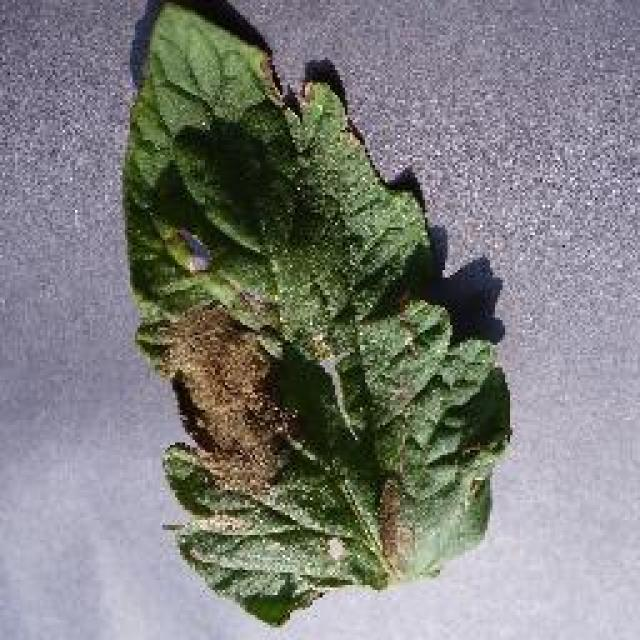Tomato___Late_blight: (120, 0, 512, 628)
